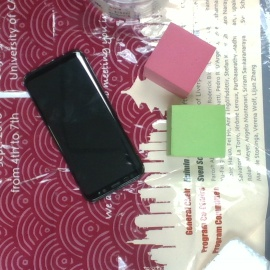phone: (24, 49, 145, 204)
